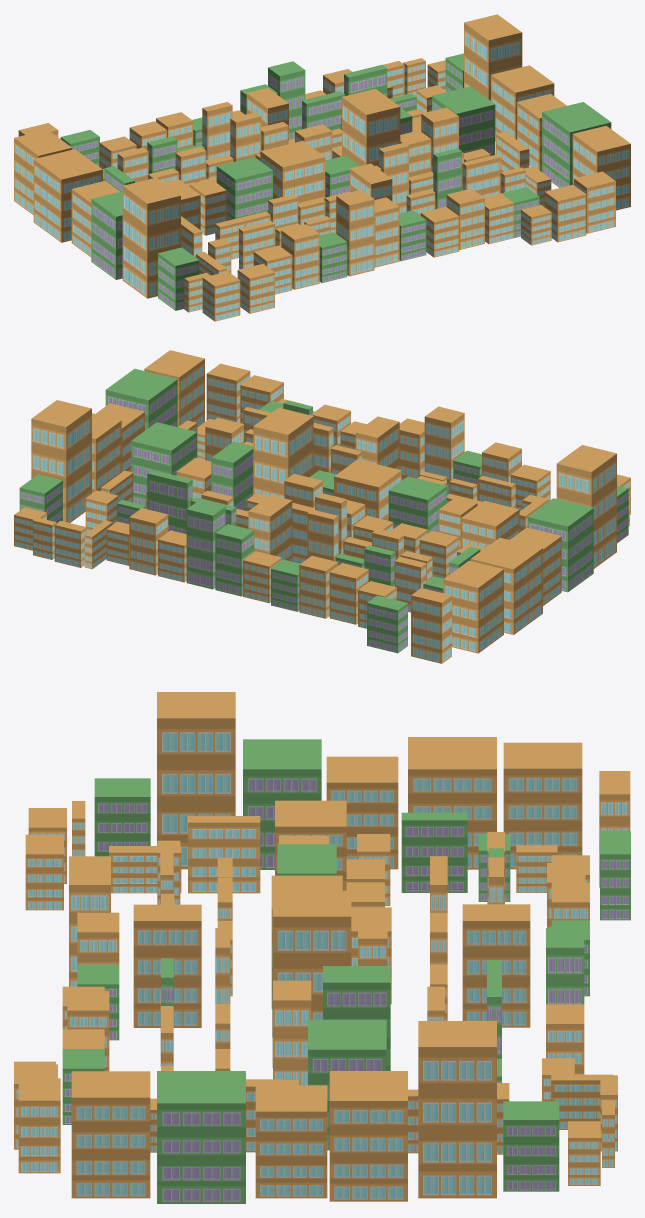
The model's file is citymap.FBX.
3 renders of one model, top to bottom at view 1: azimuth 30°, elevation 25°; view 2: azimuth 150°, elevation 25°; view 3: azimuth 270°, elevation 25°, orthographic. The views are drawn at different scales.
Parts seen in each view (by area): view 1: Box080, Box056; view 2: Box080, Box056; view 3: Box080, Box056.
Part boxes in pixels (x1,y1,x2,y2): Box080: [14, 14, 630, 321]; Box056: [60, 53, 611, 310]; Box080: [14, 350, 630, 663]; Box056: [19, 368, 628, 653]; Box080: [14, 692, 630, 1201]; Box056: [62, 739, 630, 1203].
Bounding box in the file's own units: 4528 × 905 × 3223.
